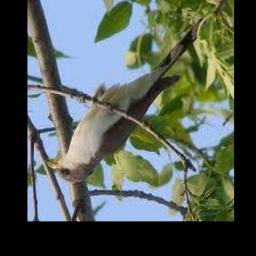Cuckoo: (46, 16, 208, 182)
